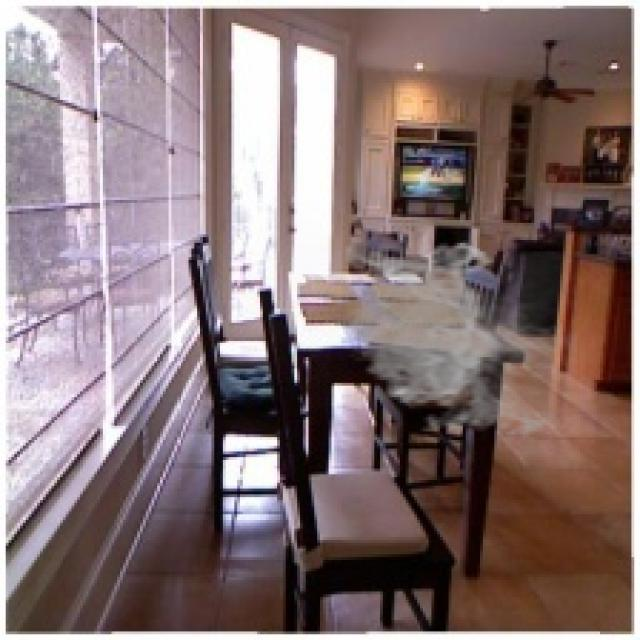smoke: (337, 237, 577, 443)
